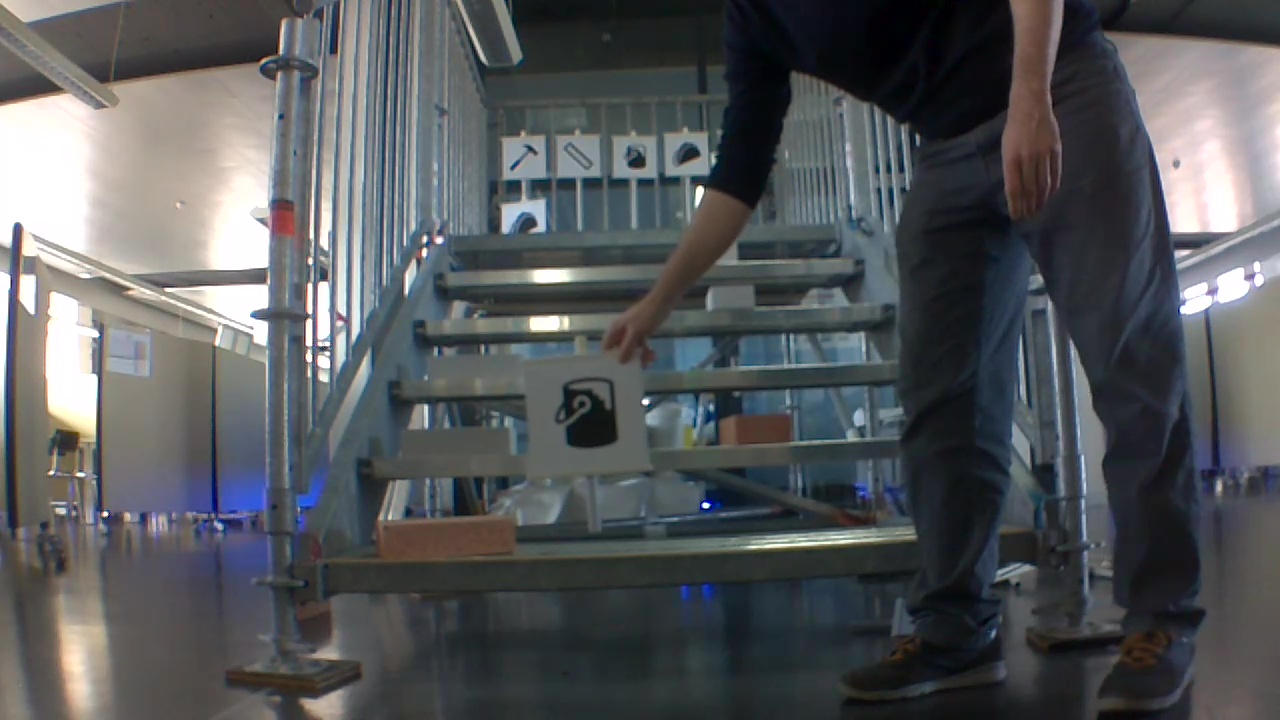brick: (377, 517, 512, 559), (401, 425, 515, 462), (427, 354, 519, 382), (722, 413, 789, 446), (706, 286, 752, 308)
bucket: (544, 371, 620, 451), (621, 141, 650, 172)
edge: (322, 532, 1039, 584)
hammer: (504, 140, 540, 174)
ruler: (560, 138, 597, 175)
taco: (670, 137, 703, 168), (506, 208, 539, 234)
